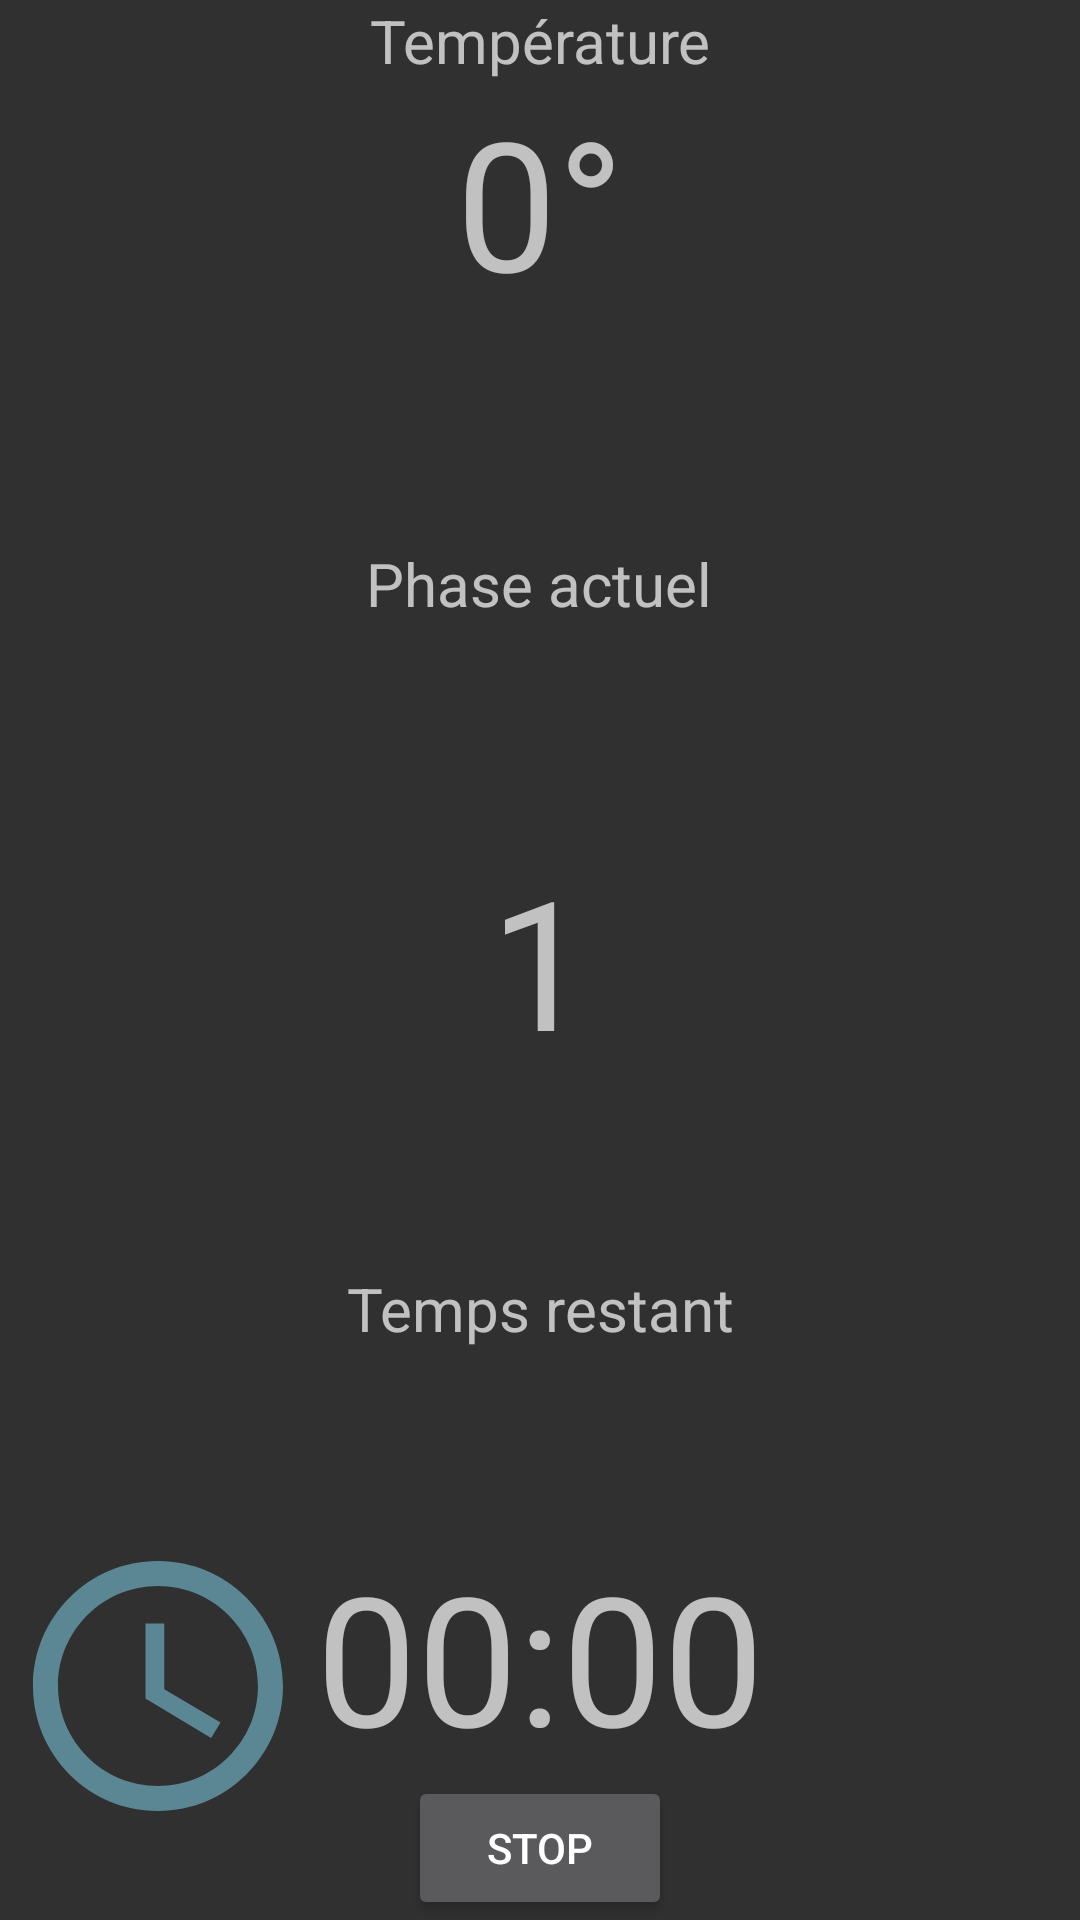

Where icons sit on this 1080*1920 app screen, as (x1, y1, x2, y2):
time: (33, 1561, 283, 1811)
